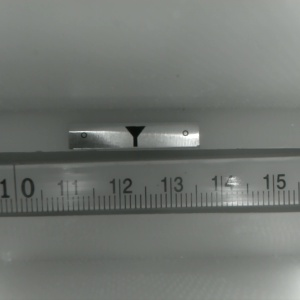0: (21, 178, 35, 198)
1: (1, 177, 10, 199), (262, 174, 269, 189), (160, 177, 167, 192), (56, 181, 63, 196), (109, 179, 115, 194), (211, 176, 217, 190), (71, 181, 77, 195)
2: (122, 178, 132, 193)
3: (173, 177, 183, 192)
5: (276, 173, 286, 189)
finger: (123, 126, 145, 148)
